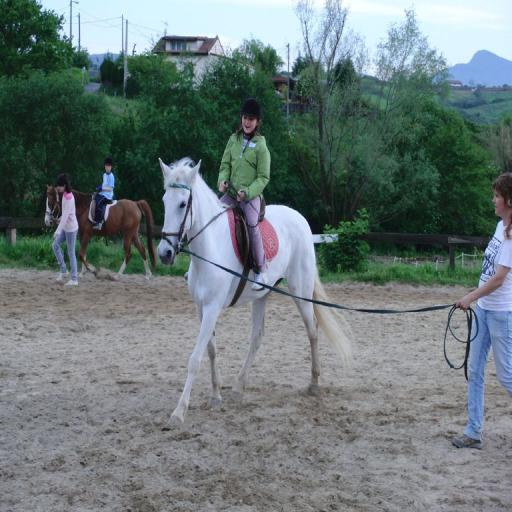horse: (156, 156, 358, 430), (42, 181, 158, 279)
